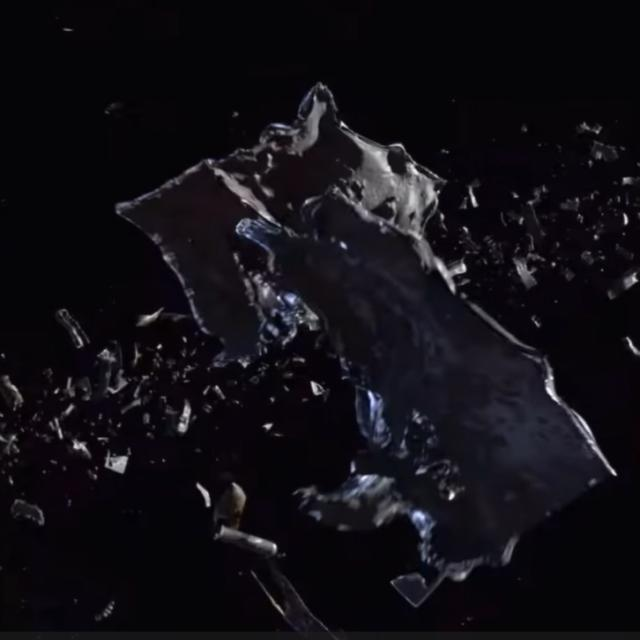large_debris: (111, 69, 632, 595), (163, 447, 352, 640), (8, 484, 56, 538), (45, 301, 95, 351)
